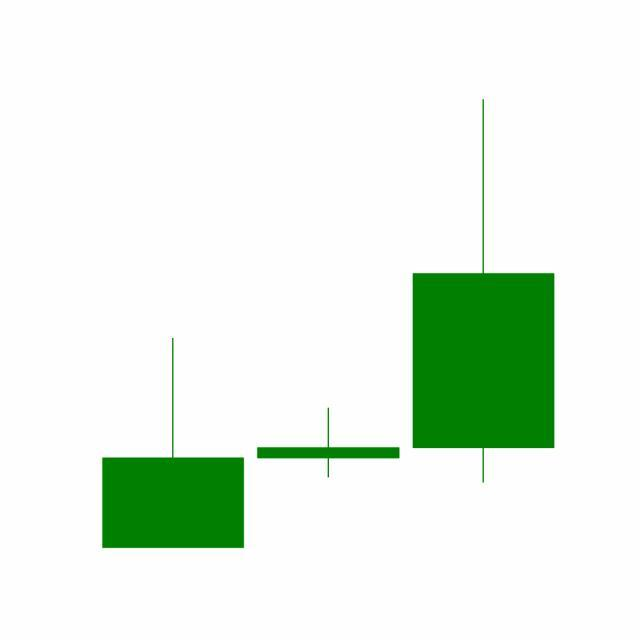Gravestone Doji: (250, 407, 407, 479)
